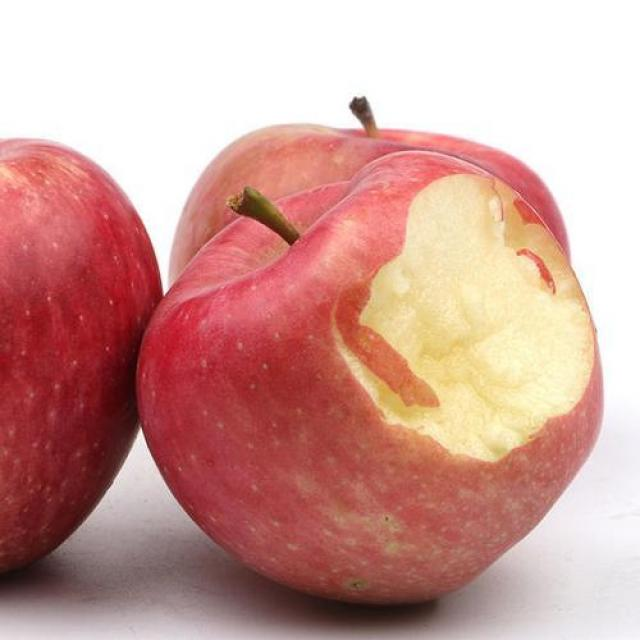Fresh Apple: (0, 138, 154, 566)
Rotten: (141, 141, 613, 597)
